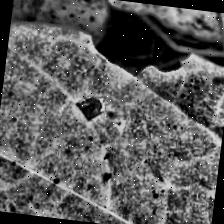ALS: (0, 16, 224, 224)
